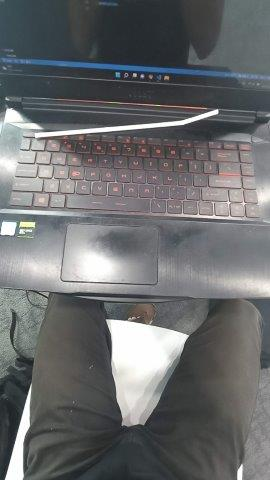sedotan: (35, 109, 218, 138)
